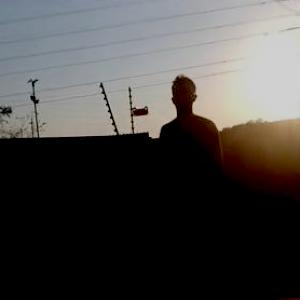follow: (153, 70, 229, 299)
